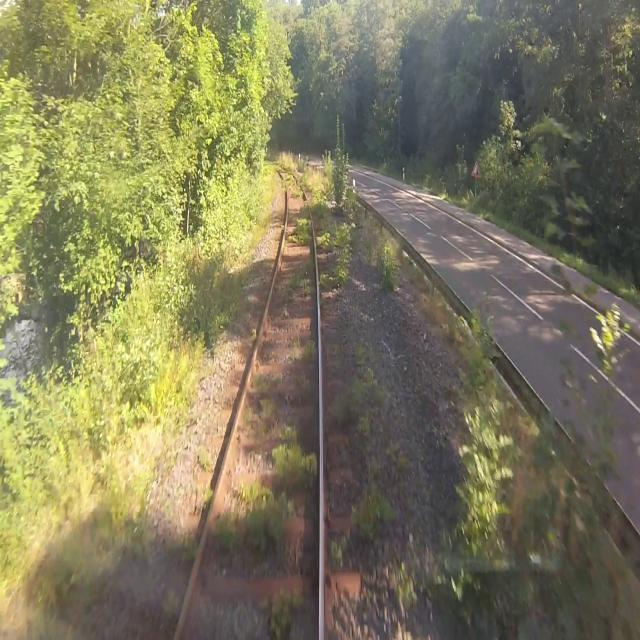Plant: (240, 329, 316, 440), (211, 480, 296, 561), (330, 488, 394, 574), (333, 375, 380, 480), (271, 419, 317, 481), (290, 164, 331, 228), (264, 585, 303, 639), (263, 156, 299, 200), (282, 258, 311, 302), (288, 200, 312, 245), (165, 533, 198, 562), (319, 255, 347, 289), (160, 589, 180, 627), (315, 228, 340, 248), (199, 483, 213, 512), (197, 443, 209, 472)
